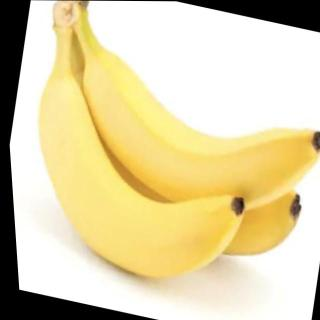banana: (3, 64, 270, 298), (35, 68, 320, 278), (56, 46, 320, 235)
